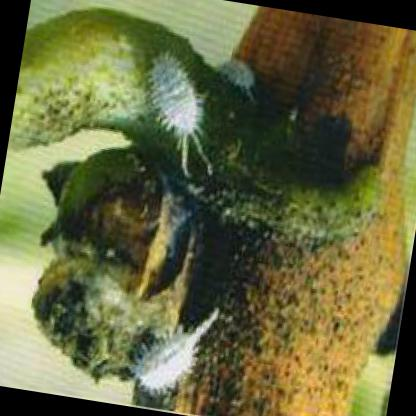mealy bug: (146, 53, 207, 180), (128, 312, 217, 393)
